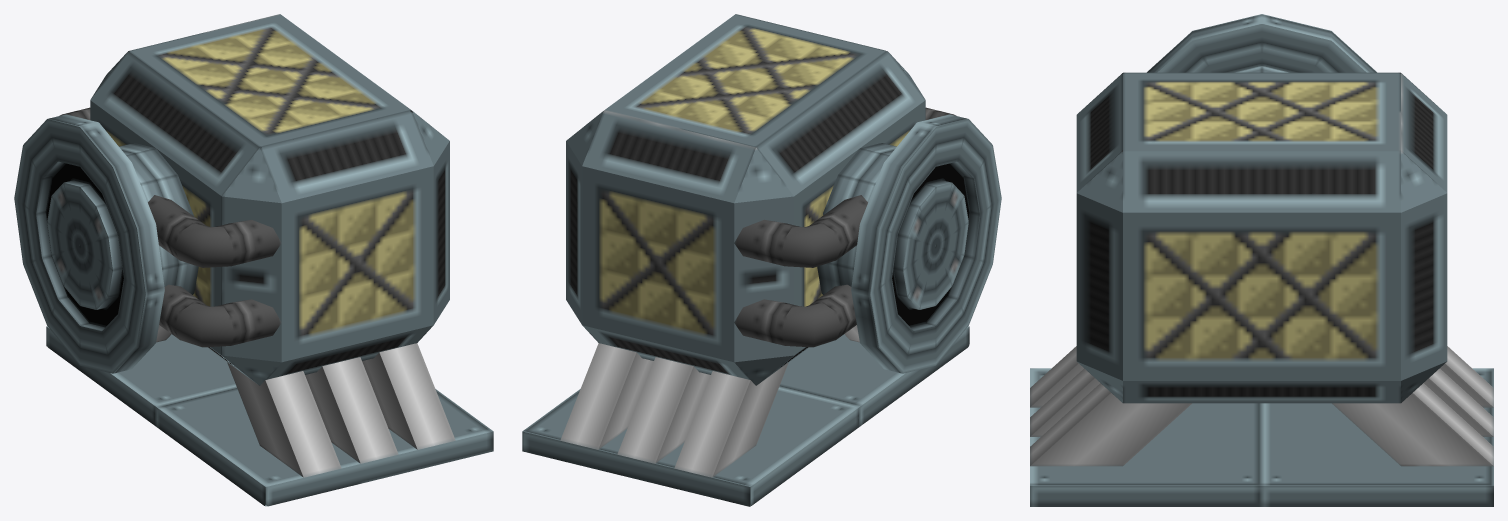
The model's file is collector.obj.
3 views of the same model, side by side, from view 1: azimuth 30°, elevation 25°; view 2: azimuth 150°, elevation 25°; view 3: azimuth 270°, elevation 25° (orthographic). The views are drawn at different scales.
Parts seen in each view (by area): view 1: Collector; view 2: Collector; view 3: Collector.
Boxes of the visible parts, left/top/right/bottom form: Collector: left=14, top=14, right=493, bottom=506; Collector: left=522, top=14, right=1001, bottom=506; Collector: left=1030, top=14, right=1493, bottom=506.
Size of the model in its own units: 4 by 4 by 5.
